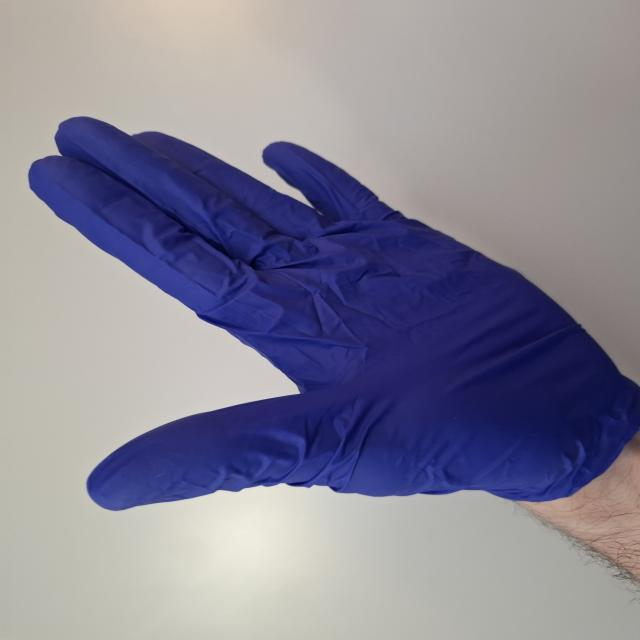glove_on: (24, 113, 640, 513)
